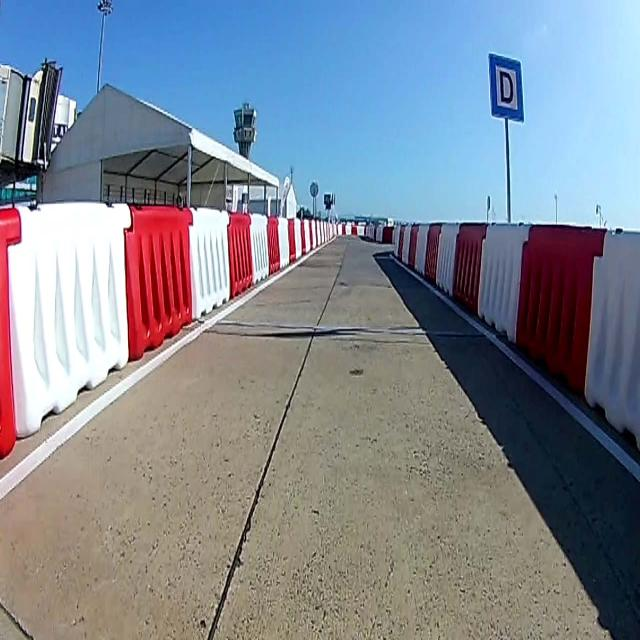durak: (486, 50, 520, 124)
